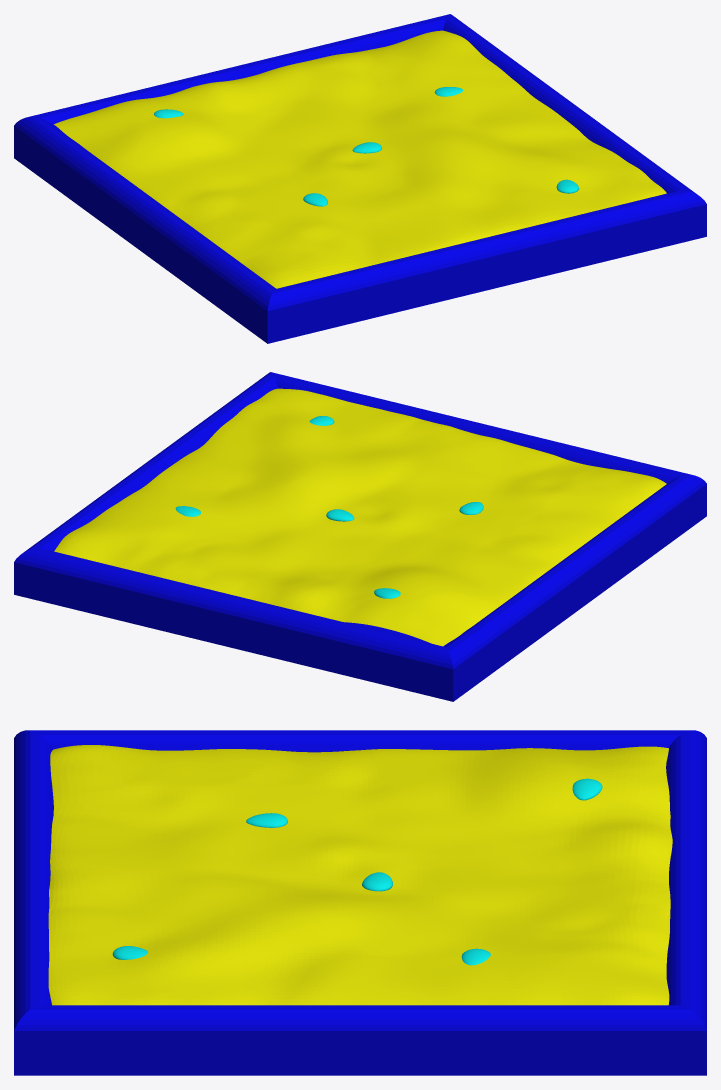
The model's file is Stage_1.fbx.
3 views of the same model, one above another, from view 1: azimuth 30°, elevation 25°; view 2: azimuth 150°, elevation 25°; view 3: azimuth 270°, elevation 25° (orthographic). The views are drawn at different scales.
Parts seen in each view (by area): view 1: Dirt, Bed; view 2: Dirt, Bed; view 3: Dirt, Bed.
Boxes of the visible parts, bbox=[...] form: Dirt: bbox=[54, 30, 666, 288]; Bed: bbox=[14, 14, 706, 343]; Dirt: bbox=[54, 388, 666, 646]; Bed: bbox=[14, 372, 706, 701]; Dirt: bbox=[48, 745, 672, 1005]; Bed: bbox=[14, 730, 706, 1075].
Bounding box in the file's own units: 4.24 × 0.484 × 4.24.
